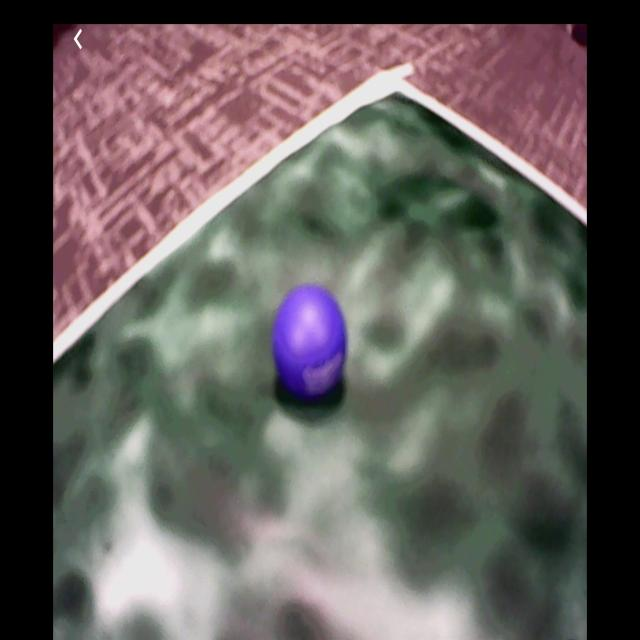ball: (274, 283, 350, 403)
